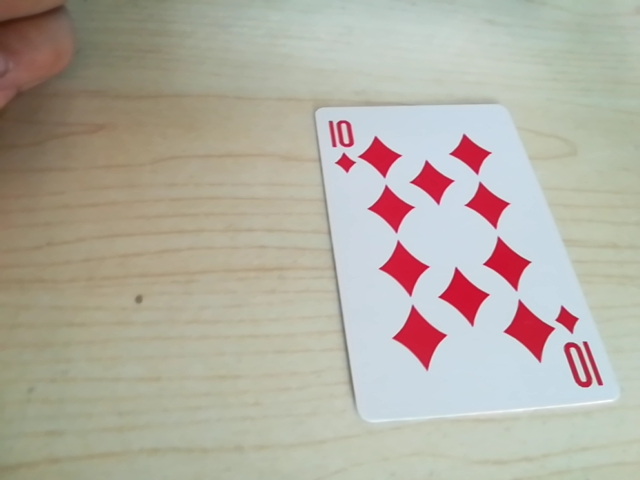fk 10: (557, 312, 599, 394), (323, 114, 368, 175)
